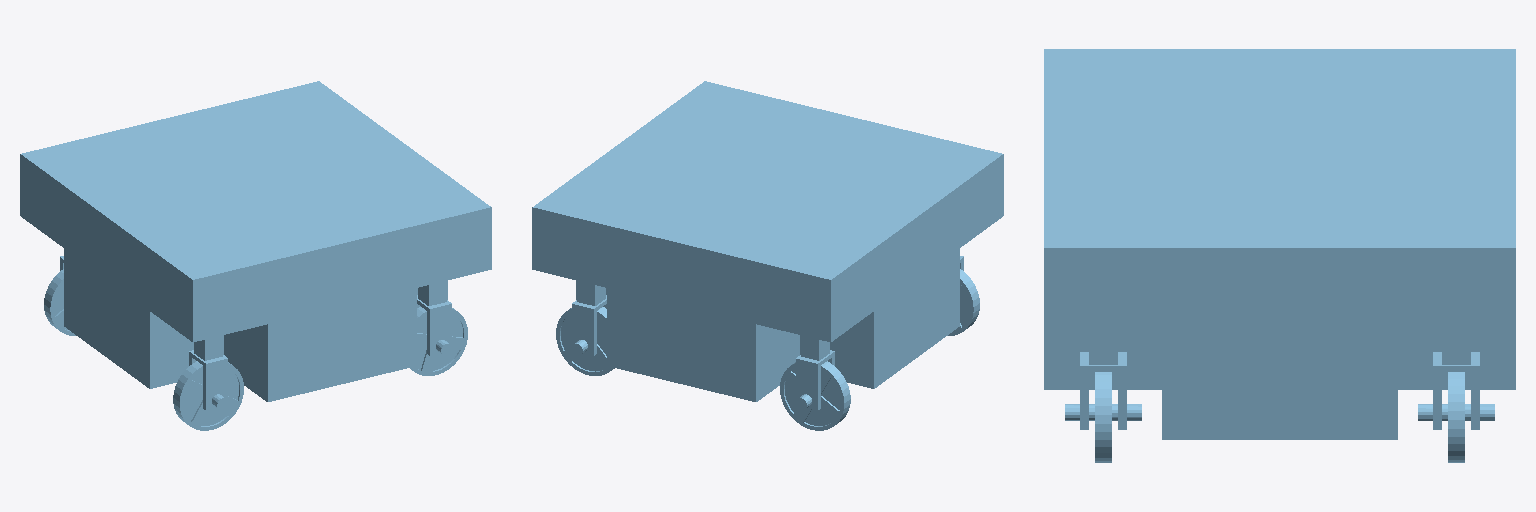
URDF robot description (mobile_base):
<?xml version="1.0" encoding="utf-8"?>
<!-- This URDF was automatically created by SolidWorks to URDF Exporter! Originally created by [author] ([email redacted]) 
     Commit Version: 1.6.0-4-g7f85cfe  Build Version: 1.6.7995.38578
     For more information, please see http://wiki.ros.org/sw_urdf_exporter -->
<robot
  name="mobile_base">
  <link
    name="base_link">
    <inertial>
      <origin
        xyz="8.68241566470467E-18 3.24282994705837E-18 0.277803885073046"
        rpy="0 0 0" />
      <mass
        value="56"/>
      <inertia
        ixx="5.31"
        ixy="0.0"
        ixz="0.0"
        iyy="5.258"
        iyz="0.0"
        izz="5.310" />
    </inertial>
    <visual>
      <origin
        xyz="0 0 0"
        rpy="0 0 0" />
      <geometry>
        <mesh
          filename="package://mobile_base/meshes/base_link.STL" />
      </geometry>
      <material
        name="">
        <color
          rgba="0.615686274509804 0.811764705882353 0.929411764705882 1" />
      </material>
    </visual>
    <collision>
      <origin
        xyz="0 0 0"
        rpy="0 0 0" />
      <geometry>
        <mesh
          filename="package://mobile_base/meshes/base_link.STL" />
      </geometry>
    </collision>
  </link>
  <link
    name="f_l_prismatic">
    <inertial>
      <origin
        xyz="5.55111512312578E-17 5.55111512312578E-17 0.0505"
        rpy="0 0 0" />
      <mass
        value="0.63" />
      <inertia
        ixx="0.0"
        ixy="0.0"
        ixz="0.0"
        iyy="0.0"
        iyz="0.0"
        izz="0.0" />
    </inertial>
    <visual>
      <origin
        xyz="0 0 0"
        rpy="0 0 0" />
      <geometry>
        <mesh
          filename="package://mobile_base/meshes/f_l_prismatic.STL" />
      </geometry>
      <material
        name="">
        <color
          rgba="0.792156862745098 0.819607843137255 0.933333333333333 1" />
      </material>
    </visual>
    <collision>
      <origin
        xyz="0 0 0"
        rpy="0 0 0" />
      <geometry>
        <mesh
          filename="package://mobile_base/meshes/f_l_prismatic.STL" />
      </geometry>
    </collision>
  </link>
  <joint
    name="f_l_prismatic_joint"
    type="fixed">
    <origin
      xyz="0.3 0.3 0.19"
      rpy="0 0 0" />
    <parent
      link="base_link" />
    <child
      link="f_l_prismatic" />
    <axis
      xyz="0 0 1" />
    <limit
      lower="0"
      upper="0.02"
      effort="100"
      velocity="100" />
  </joint>
  <link
    name="f_l_rotate">
    <inertial>
      <origin
        xyz="0 5.55111512312578E-17 -0.0361269533146127"
        rpy="0 0 0" />
      <mass
        value="0.35" />
      <inertia
        ixx="01"
        ixy="0.0"
        ixz="0.0"
        iyy="1"
        iyz="0.0"
        izz="0.0" />
    </inertial>
    <visual>
      <origin
        xyz="0 0 0"
        rpy="0 0 0" />
      <geometry>
        <mesh
          filename="package://mobile_base/meshes/f_l_rotate.STL" />
      </geometry>
      <material
        name="">
        <color
          rgba="0.615686274509804 0.811764705882353 0.929411764705882 1" />
      </material>
    </visual>
    <collision>
      <origin
        xyz="0 0 0"
        rpy="0 0 0" />
      <geometry>
        <mesh
          filename="package://mobile_base/meshes/f_l_rotate.STL" />
      </geometry>
    </collision>
  </link>
  <joint
    name="f_l_rotate_joint"
    type="revolute">
    <origin
      xyz="0 0 -0.012485"
      rpy="0 0 0" />
    <parent
      link="f_l_prismatic" />
    <child
      link="f_l_rotate" />
    <axis
      xyz="0 0 1" />
    <limit
      lower="-1.5708"
      upper="1.5708"
      effort="100"
      velocity="100" />
  </joint>
  <link
    name="f_l_ew">
    <inertial>
      <origin
        xyz="0 -2.77555756156289E-17 0"
        rpy="0 0 0" />
      <mass
        value="1.89" />
      <inertia
        ixx="018"
        ixy="0.01"
        ixz="0.17"
        iyy="0.34"
        iyz="0.01"
        izz="0.18" />
    </inertial>
    <visual>
      <origin
        xyz="0 0 0"
        rpy="0 0 0" />
      <geometry>
        <mesh
          filename="package://mobile_base/meshes/f_l_ew.STL" />
      </geometry>
      <material
        name="">
        <color
          rgba="0.615686274509804 0.811764705882353 0.929411764705882 1" />
      </material>
    </visual>
    <collision>
      <origin
        xyz="0 0 0"
        rpy="0 0 0" />
      <geometry>
        <mesh
          filename="package://mobile_base/meshes/f_l_ew.STL" />
      </geometry>
    </collision>
  </link>
  <joint
    name="f_l_ew_joint"
    type="continuous">
    <origin
      xyz="0 0 -0.087515"
      rpy="-1.5708 0 0" />
    <parent
      link="f_l_rotate" />
    <child
      link="f_l_ew" />
    <axis
      xyz="0 0 1" />
  </joint>
  <link
    name="r_l_prismatic">
    <inertial>
      <origin
        xyz="2.77555756156289E-16 -3.88578058618805E-16 0.0505000000000001"
        rpy="0 0 0" />
      <mass
        value="0.63" />
      <inertia
        ixx="0.0"
        ixy="0.0"
        ixz="0.0"
        iyy="0.0"
        iyz="0.0"
        izz="0.0" />
    </inertial>
    <visual>
      <origin
        xyz="0 0 0"
        rpy="0 0 0" />
      <geometry>
        <mesh
          filename="package://mobile_base/meshes/r_l_prismatic.STL" />
      </geometry>
      <material
        name="">
        <color
          rgba="0.792156862745098 0.819607843137255 0.933333333333333 1" />
      </material>
    </visual>
    <collision>
      <origin
        xyz="0 0 0"
        rpy="0 0 0" />
      <geometry>
        <mesh
          filename="package://mobile_base/meshes/r_l_prismatic.STL" />
      </geometry>
    </collision>
  </link>
  <joint
    name="r_l_prismatic_joint"
    type="fixed">
    <origin
      xyz="-0.3 0.3 0.19"
      rpy="0 0 0" />
    <parent
      link="base_link" />
    <child
      link="r_l_prismatic" />
    <axis
      xyz="0 0 1" />
    <limit
      lower="0"
      upper="0.02"
      effort="100"
      velocity="100" />
  </joint>
  <link
    name="r_l_rotate">
    <inertial>
      <origin
        xyz="0 0 0.0219977106357566"
        rpy="0 0 0" />
      <mass
        value="0.35" />
      <inertia
        ixx="01"
        ixy="0.0"
        ixz="0.0"
        iyy="1"
        iyz="0.0"
        izz="0.0" />
    </inertial>
    <visual>
      <origin
        xyz="0 0 0"
        rpy="0 0 0" />
      <geometry>
        <mesh
          filename="package://mobile_base/meshes/r_l_rotate.STL" />
      </geometry>
      <material
        name="">
        <color
          rgba="0.615686274509804 0.811764705882353 0.929411764705882 1" />
      </material>
    </visual>
    <collision>
      <origin
        xyz="0 0 0"
        rpy="0 0 0" />
      <geometry>
        <mesh
          filename="package://mobile_base/meshes/r_l_rotate.STL" />
      </geometry>
    </collision>
  </link>
  <joint
    name="r_l_rotate_joint"
    type="revolute">
    <origin
      xyz="0 0 -0.0706097590252183"
      rpy="0 0 0" />
    <parent
      link="r_l_prismatic" />
    <child
      link="r_l_rotate" />
    <axis
      xyz="0 0 1" />
    <limit
      lower="-1.5708"
      upper="1.5708"
      effort="100"
      velocity="100" />
  </joint>
  <link
    name="r_l_ew">
    <inertial>
      <origin
        xyz="0 0 0"
        rpy="0 0 0" />
      <mass
        value="1.89" />
      <inertia
        ixx="018"
        ixy="0.01"
        ixz="0.17"
        iyy="0.34"
        iyz="0.01"
        izz="0.18" />
    </inertial>
    <visual>
      <origin
        xyz="0 0 0"
        rpy="0 0 0" />
      <geometry>
        <mesh
          filename="package://mobile_base/meshes/r_l_ew.STL" />
      </geometry>
      <material
        name="">
        <color
          rgba="0.615686274509804 0.811764705882353 0.929411764705882 1" />
      </material>
    </visual>
    <collision>
      <origin
        xyz="0 0 0"
        rpy="0 0 0" />
      <geometry>
        <mesh
          filename="package://mobile_base/meshes/r_l_ew.STL" />
      </geometry>
    </collision>
  </link>
  <joint
    name="r_l_ew_joint"
    type="continuous">
    <origin
      xyz="0 0 -0.02939"
      rpy="-1.5708 0 0" />
    <parent
      link="r_l_rotate" />
    <child
      link="r_l_ew" />
    <axis
      xyz="0 0 -1" />
  </joint>
  <link
    name="r_r_prismatic">
    <inertial>
      <origin
        xyz="-5.55111512312578E-17 -5.55111512312578E-17 0.0505"
        rpy="0 0 0" />
      <mass
        value="0.63" />
      <inertia
        ixx="0.0"
        ixy="0.0"
        ixz="0.0"
        iyy="0.0"
        iyz="0.0"
        izz="0.0" />
    </inertial>
    <visual>
      <origin
        xyz="0 0 0"
        rpy="0 0 0" />
      <geometry>
        <mesh
          filename="package://mobile_base/meshes/r_r_prismatic.STL" />
      </geometry>
      <material
        name="">
        <color
          rgba="0.792156862745098 0.819607843137255 0.933333333333333 1" />
      </material>
    </visual>
    <collision>
      <origin
        xyz="0 0 0"
        rpy="0 0 0" />
      <geometry>
        <mesh
          filename="package://mobile_base/meshes/r_r_prismatic.STL" />
      </geometry>
    </collision>
  </link>
  <joint
    name="r_r_prismatic_joint"
    type="fixed">
    <origin
      xyz="-0.3 -0.3 0.19"
      rpy="0 0 0" />
    <parent
      link="base_link" />
    <child
      link="r_r_prismatic" />
    <axis
      xyz="0 0 1" />
    <limit
      lower="-1.5708"
      upper="1.5708"
      effort="100"
      velocity="100" />
  </joint>
  <link
    name="r_r_rotate">
    <inertial>
      <origin
        xyz="1.66533453693773E-16 1.11022302462516E-16 -0.0100719274166877"
        rpy="0 0 0" />
      <mass
        value="0.35" />
      <inertia
        ixx="01"
        ixy="0.0"
        ixz="0.0"
        iyy="1"
        iyz="0.0"
        izz="0.0" />
    </inertial>
    <visual>
      <origin
        xyz="0 0 0"
        rpy="0 0 0" />
      <geometry>
        <mesh
          filename="package://mobile_base/meshes/r_r_rotate.STL" />
      </geometry>
      <material
        name="">
        <color
          rgba="0.615686274509804 0.811764705882353 0.929411764705882 1" />
      </material>
    </visual>
    <collision>
      <origin
        xyz="0 0 0"
        rpy="0 0 0" />
      <geometry>
        <mesh
          filename="package://mobile_base/meshes/r_r_rotate.STL" />
      </geometry>
    </collision>
  </link>
  <joint
    name="r_r_rotate_joint"
    type="revolute">
    <origin
      xyz="0 0 -0.03854"
      rpy="0 0 0" />
    <parent
      link="r_r_prismatic" />
    <child
      link="r_r_rotate" />
    <axis
      xyz="0 0 1" />
    <limit
      lower="-1.5708"
      upper="1.5708"
      effort="100"
      velocity="100" />
  </joint>
  <link
    name="r_r_ew">
    <inertial>
      <origin
        xyz="0 2.77555756156289E-17 0"
        rpy="0 0 0" />
      <mass
        value="1.89" />
      <inertia
        ixx="018"
        ixy="0.01"
        ixz="0.17"
        iyy="0.34"
        iyz="0.01"
        izz="0.18" />
    </inertial>
    <visual>
      <origin
        xyz="0 0 0"
        rpy="0 0 0" />
      <geometry>
        <mesh
          filename="package://mobile_base/meshes/r_r_ew.STL" />
      </geometry>
      <material
        name="">
        <color
          rgba="0.615686274509804 0.811764705882353 0.929411764705882 1" />
      </material>
    </visual>
    <collision>
      <origin
        xyz="0 0 0"
        rpy="0 0 0" />
      <geometry>
        <mesh
          filename="package://mobile_base/meshes/r_r_ew.STL" />
      </geometry>
    </collision>
  </link>
  <joint
    name="r_r_ew_joint"
    type="continuous">
    <origin
      xyz="0 0 -0.06146"
      rpy="-1.5708 0 0" />
    <parent
      link="r_r_rotate" />
    <child
      link="r_r_ew" />
    <axis
      xyz="0 0 -1" />
  </joint>
  <link
    name="f_r_prismatic">
    <inertial>
      <origin
        xyz="0 -1.11022302462516E-16 0.0505"
        rpy="0 0 0" />
      <mass
        value="0.35" />
      <inertia
        ixx="01"
        ixy="0.0"
        ixz="0.0"
        iyy="1"
        iyz="0.0"
        izz="0.0" />
    </inertial>
    <visual>
      <origin
        xyz="0 0 0"
        rpy="0 0 0" />
      <geometry>
        <mesh
          filename="package://mobile_base/meshes/f_r_prismatic.STL" />
      </geometry>
      <material
        name="">
        <color
          rgba="0.792156862745098 0.819607843137255 0.933333333333333 1" />
      </material>
    </visual>
    <collision>
      <origin
        xyz="0 0 0"
        rpy="0 0 0" />
      <geometry>
        <mesh
          filename="package://mobile_base/meshes/f_r_prismatic.STL" />
      </geometry>
    </collision>
  </link>
  <joint
    name="f_r_prismatic_joint"
    type="fixed">
    <origin
      xyz="0.3 -0.3 0.19"
      rpy="0 0 0" />
    <parent
      link="base_link" />
    <child
      link="f_r_prismatic" />
    <axis
      xyz="0 0 1" />
    <limit
      lower="0"
      upper="0.02"
      effort="100"
      velocity="100" />
  </joint>
  <link
    name="f_r_rotate">
    <inertial>
      <origin
        xyz="-1.66533453693773E-16 1.11022302462516E-16 0.158278966866196"
        rpy="0 0 0" />
      <mass
        value="1.89" />
      <inertia
        ixx="018"
        ixy="0.01"
        ixz="0.17"
        iyy="0.34"
        iyz="0.01"
        izz="0.18" />
    </inertial>
    <visual>
      <origin
        xyz="0 0 0"
        rpy="0 0 0" />
      <geometry>
        <mesh
          filename="package://mobile_base/meshes/f_r_rotate.STL" />
      </geometry>
      <material
        name="">
        <color
          rgba="0.615686274509804 0.811764705882353 0.929411764705882 1" />
      </material>
    </visual>
    <collision>
      <origin
        xyz="0 0 0"
        rpy="0 0 0" />
      <geometry>
        <mesh
          filename="package://mobile_base/meshes/f_r_rotate.STL" />
      </geometry>
    </collision>
  </link>
  <joint
    name="f_r_rotate_joint"
    type="revolute">
    <origin
      xyz="0 0 -0.206891015255658"
      rpy="0 0 0" />
    <parent
      link="f_r_prismatic" />
    <child
      link="f_r_rotate" />
    <axis
      xyz="0 0 1" />
    <limit
      lower="-1.5708"
      upper="1.5708"
      effort="100"
      velocity="100" />
  </joint>
  <link
    name="f_r_ew">
    <inertial>
      <origin
        xyz="0 0 0"
        rpy="0 0 0" />
      <mass
        value="1.89" />
      <inertia
        ixx="018"
        ixy="0.01"
        ixz="0.17"
        iyy="0.34"
        iyz="0.01"
        izz="0.18" />
    </inertial>
    <visual>
      <origin
        xyz="0 0 0"
        rpy="0 0 0" />
      <geometry>
        <mesh
          filename="package://mobile_base/meshes/f_r_ew.STL" />
      </geometry>
      <material
        name="">
        <color
          rgba="0.615686274509804 0.811764705882353 0.929411764705882 1" />
      </material>
    </visual>
    <collision>
      <origin
        xyz="0 0 0"
        rpy="0 0 0" />
      <geometry>
        <mesh
          filename="package://mobile_base/meshes/f_r_ew.STL" />
      </geometry>
    </collision>
  </link>
  <joint
    name="f_r_ew_joint"
    type="continuous">
    <origin
      xyz="0 0 0.106891015255658"
      rpy="-1.5707963267949 0 0" />
    <parent
      link="f_r_rotate" />
    <child
      link="f_r_ew" />
    <axis
      xyz="0 0 -1" />
  </joint>

  <transmission name="f_l_ew_trans">
    <type>transmission_interface/SimpleTransmission</type>
    <joint name="f_l_ew_joint">
      <hardwareInterface>hardware_interface/VelocityJointInterface</hardwareInterface>
    </joint>
    <actuator name="f_l_ew_motor">
      <hardwareInterface>hardware_interface/VelocityJointInterface</hardwareInterface>
      <mechanicalReduction>1</mechanicalReduction>
    </actuator>
  </transmission>
  
  <transmission name="f_r_ew_trans">
    <type>transmission_interface/SimpleTransmission</type>
    <joint name="f_r_ew_joint">
      <hardwareInterface>hardware_interface/VelocityJointInterface</hardwareInterface>
    </joint>
    <actuator name="f_r_ew_motor">
      <hardwareInterface>hardware_interface/VelocityJointInterface</hardwareInterface>
      <mechanicalReduction>1</mechanicalReduction>
    </actuator>
  </transmission>
  
  <transmission name="r_l_ew_trans">
    <type>transmission_interface/SimpleTransmission</type>
    <joint name="r_l_ew_joint">
      <hardwareInterface>hardware_interface/VelocityJointInterface</hardwareInterface>
    </joint>
    <actuator name="r_l_ew_motor">
      <hardwareInterface>hardware_interface/VelocityJointInterface</hardwareInterface>
      <mechanicalReduction>1</mechanicalReduction>
    </actuator>
  </transmission>
  
  <transmission name="r_r_ew_trans">
    <type>transmission_interface/SimpleTransmission</type>
    <joint name="r_r_ew_joint">
      <hardwareInterface>hardware_interface/VelocityJointInterface</hardwareInterface>
    </joint>
    <actuator name="r_r_ew_motor">
      <hardwareInterface>hardware_interface/VelocityJointInterface</hardwareInterface>
      <mechanicalReduction>1</mechanicalReduction>
    </actuator>
  </transmission>

  <!--  -->
  <transmission name="f_l_rotate_trans">
    <type>transmission_interface/SimpleTransmission</type>
    <joint name="f_l_rotate_joint">
      <hardwareInterface>hardware_interface/PositionJointInterface</hardwareInterface>
    </joint>
    <actuator name="f_l_rotate_motor">
      <hardwareInterface>hardware_interface/PositionJointInterface</hardwareInterface>
      <mechanicalReduction>1</mechanicalReduction>
    </actuator>
  </transmission>
  
  <transmission name="f_r_rotate_trans">
    <type>transmission_interface/SimpleTransmission</type>
    <joint name="f_r_rotate_joint">
      <hardwareInterface>hardware_interface/PositionJointInterface</hardwareInterface>
    </joint>
    <actuator name="f_r_rotate_motor">
      <hardwareInterface>hardware_interface/PositionJointInterface</hardwareInterface>
      <mechanicalReduction>1</mechanicalReduction>
    </actuator>
  </transmission>
  
  <transmission name="r_l_rotate_trans">
    <type>transmission_interface/SimpleTransmission</type>
    <joint name="r_l_rotate_joint">
      <hardwareInterface>hardware_interface/PositionJointInterface</hardwareInterface>
    </joint>
    <actuator name="r_l_rotate_motor">
      <hardwareInterface>hardware_interface/PositionJointInterface</hardwareInterface>
      <mechanicalReduction>1</mechanicalReduction>
    </actuator>
  </transmission>
  
  <transmission name="r_r_rotate_trans">
    <type>transmission_interface/SimpleTransmission</type>
    <joint name="r_r_rotate_joint">
      <hardwareInterface>hardware_interface/PositionJointInterface</hardwareInterface>
    </joint>
    <actuator name="r_r_rotate_motor">
      <hardwareInterface>hardware_interface/PositionJointInterface</hardwareInterface>
      <mechanicalReduction>1</mechanicalReduction>
    </actuator>
  </transmission>




  <gazebo>
    <plugin name="gazebo_ros_control" filename="libgazebo_ros_control.so">
     <robotNamespace>/mobile_base</robotNamespace>
     <robotSimType>gazebo_ros_control/DefaultRobotHWSim</robotSimType>
    </plugin>
  </gazebo> 
</robot>

--- Facts derived from the render (not from the file) ---
3 views of the same robot in one strip: view 1: azimuth 30°, elevation 25°; view 2: azimuth 150°, elevation 25°; view 3: azimuth 270°, elevation 25° (orthographic).
Robot: mobile_base — 13 links, 12 joints (4 revolute, 4 continuous, 4 fixed); root link base_link; default pose: all joints at 0.
Links seen in each view (by area): view 1: base_link, r_r_ew, f_r_ew, r_r_rotate, f_r_rotate, r_l_ew; view 2: base_link, r_l_ew, f_l_ew, r_l_rotate, f_l_rotate, r_r_ew; view 3: base_link, f_l_ew, f_r_ew, f_l_rotate, f_r_rotate.
Boxes of the visible links, box(x1,y1,x2,y2) form: base_link: box(20, 81, 491, 401); r_r_ew: box(173, 361, 243, 430); f_r_ew: box(410, 307, 467, 375); r_r_rotate: box(189, 350, 227, 410); f_r_rotate: box(417, 295, 451, 355); r_l_ew: box(44, 269, 75, 335); base_link: box(532, 81, 1003, 401); r_l_ew: box(780, 361, 850, 430); f_l_ew: box(556, 307, 614, 375); r_l_rotate: box(796, 350, 834, 410); f_l_rotate: box(572, 295, 606, 355); r_r_ew: box(948, 269, 979, 335); base_link: box(1044, 49, 1515, 439); f_l_ew: box(1418, 372, 1494, 462); f_r_ew: box(1065, 372, 1141, 462); f_l_rotate: box(1433, 352, 1479, 429); f_r_rotate: box(1080, 352, 1126, 429).
Bounding box of the posed robot: 0.8 × 0.8 × 0.4415 m (x, y, z).
Meshes: 13 distinct files referenced, 12 mesh visuals loaded (12 binary STL); not drawn: 1 (reference not matched to a file when rendering).